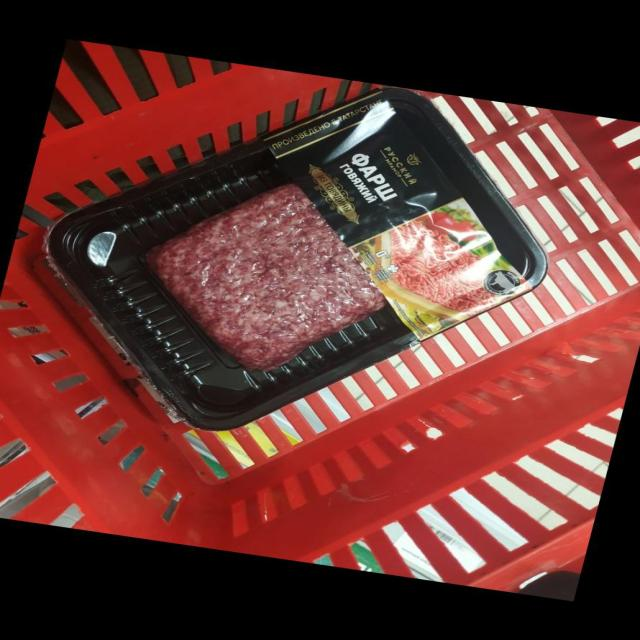Meat: (45, 87, 547, 430)
